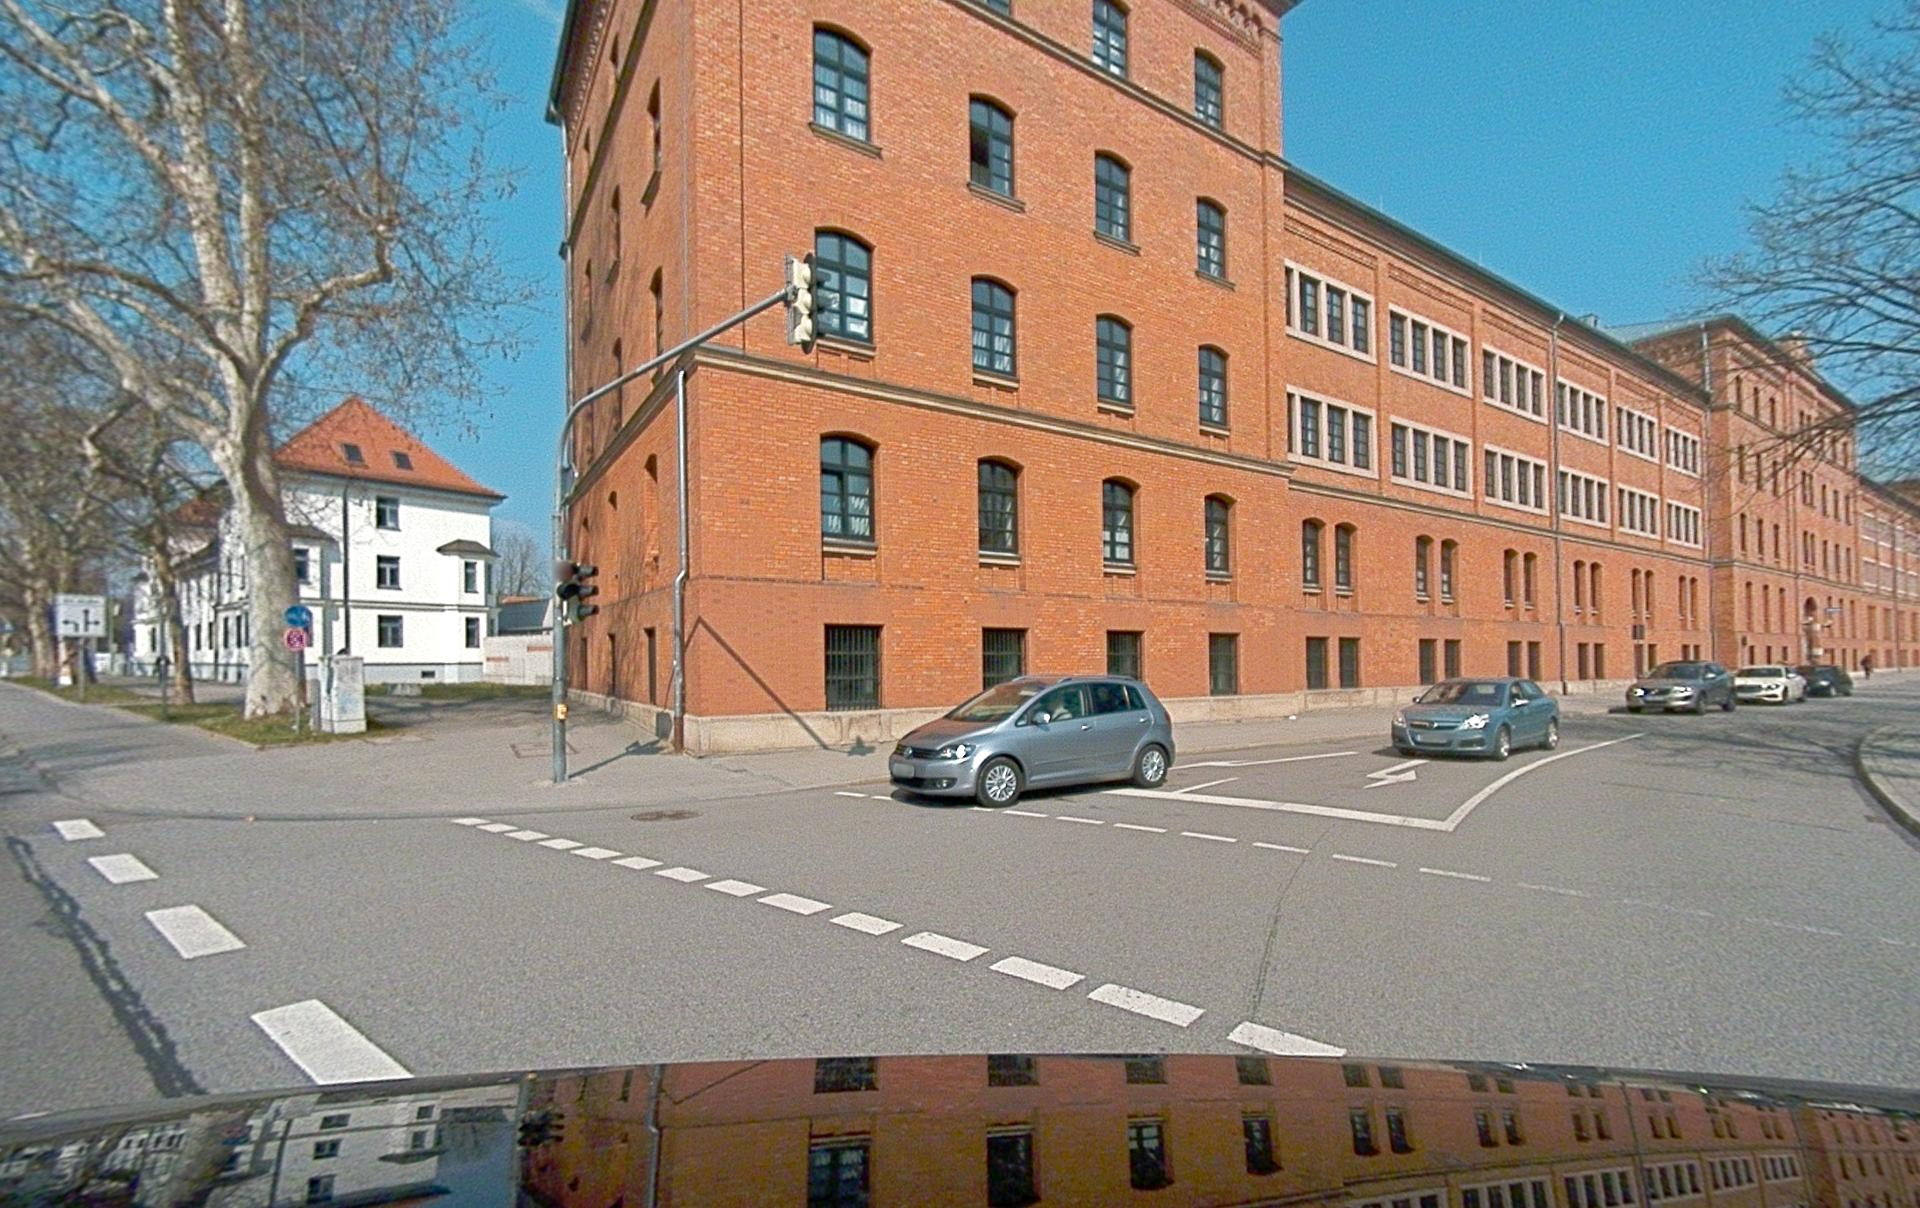car: (889, 675, 1173, 804), (1391, 676, 1560, 758), (1625, 661, 1736, 714), (1734, 665, 1805, 703), (1798, 664, 1852, 696)
